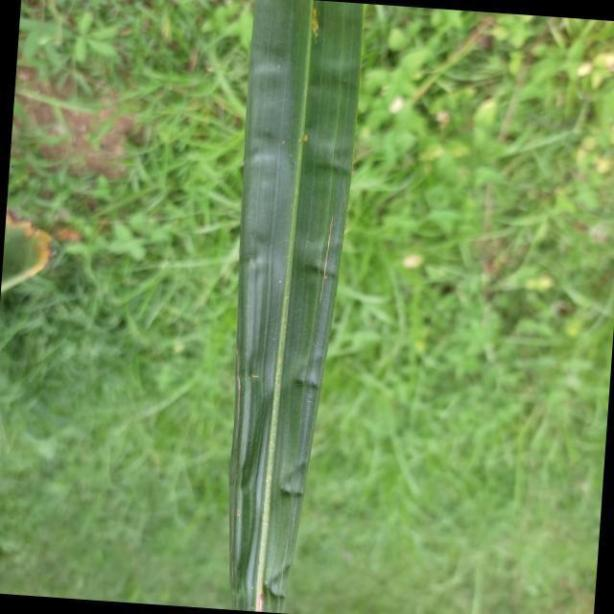Boron: (227, 0, 363, 614)
